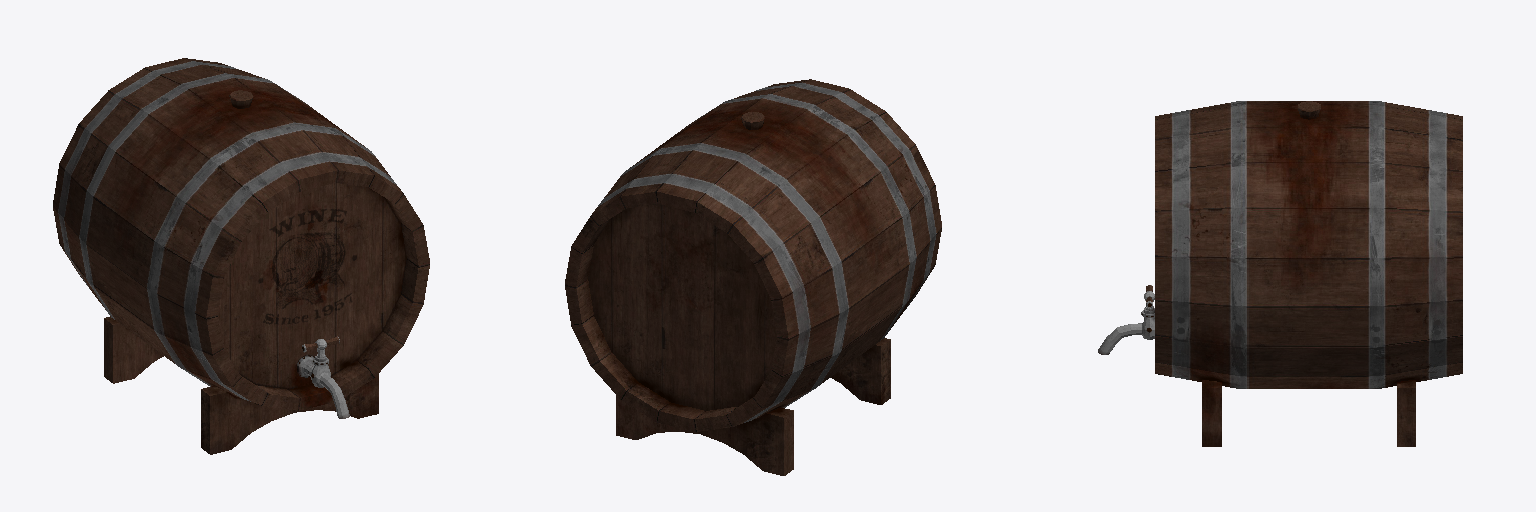
3 renders of one model, left to right at view 1: azimuth 30°, elevation 25°; view 2: azimuth 150°, elevation 25°; view 3: azimuth 270°, elevation 25°, orthographic.
Parts seen in each view (by area): view 1: obj1; view 2: obj1; view 3: obj1.
Boxes of the visible parts, x1=… form: obj1: x1=53, y1=58, x2=429, y2=454; obj1: x1=565, y1=79, x2=941, y2=475; obj1: x1=1098, y1=101, x2=1462, y2=446.
Size of the model in its own units: 89.29 by 102 by 113.
Materials: 1 (1 with a texture image).